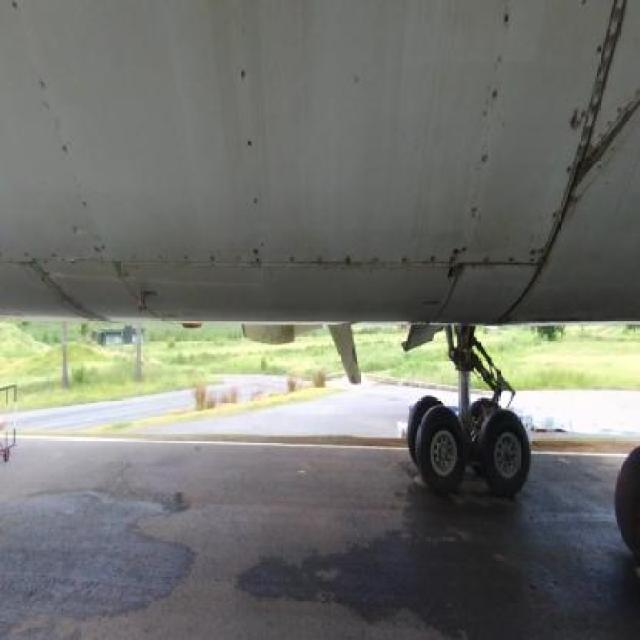Missing-Rivet: (121, 238, 539, 290), (227, 32, 279, 265), (480, 9, 522, 251)
Rust: (562, 89, 584, 142)
